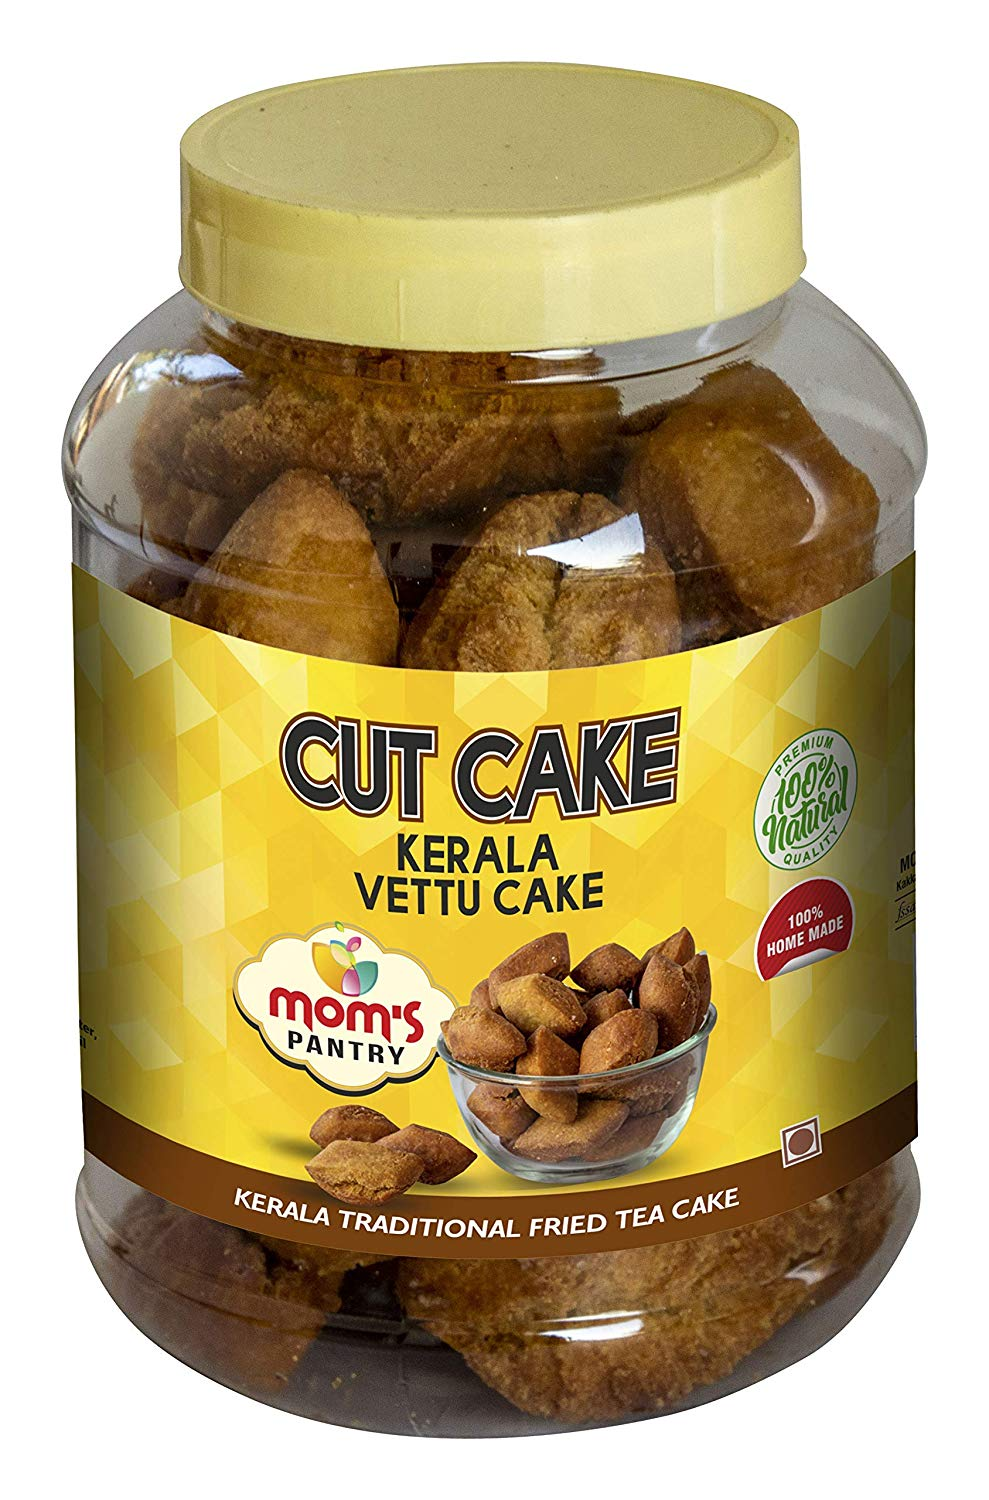nonveg_red: (781, 1116, 821, 1164)
